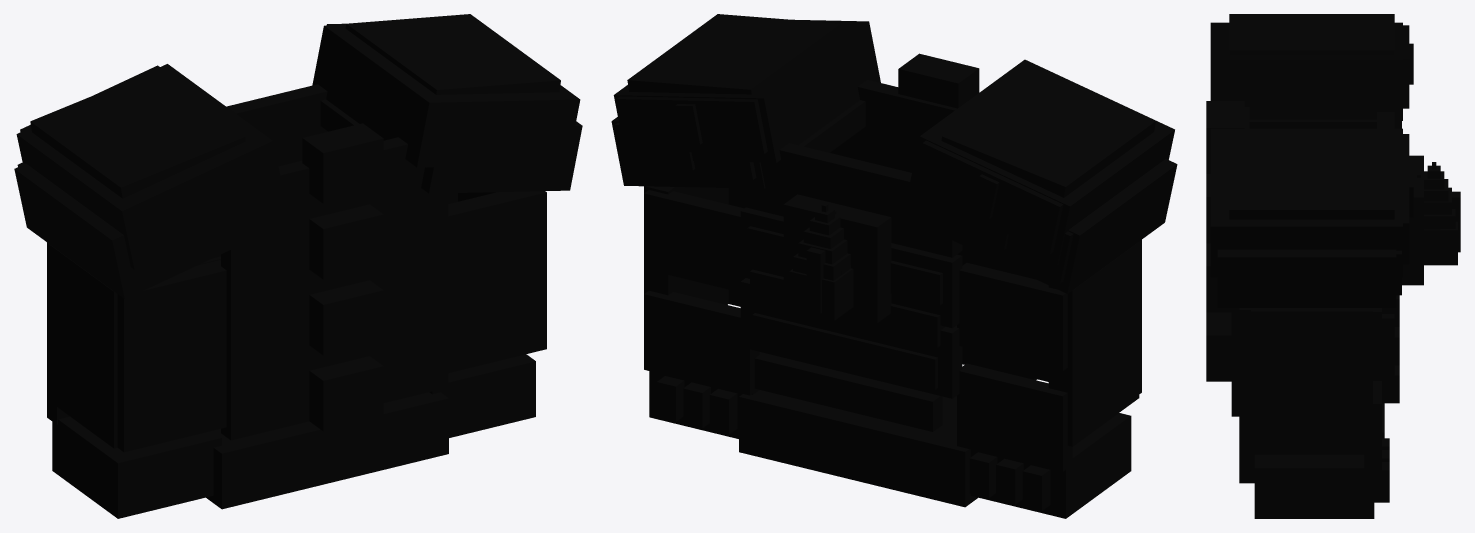
File: crystal_carapace_chestplate.obj
The picture shows the model from 3 angles, left to right: view 1: azimuth 30°, elevation 25°; view 2: azimuth 150°, elevation 25°; view 3: azimuth 270°, elevation 25°; orthographic projection. The views are drawn at different scales.
Size of the model in its own units: 0.875 by 0.6618 by 0.4491.
